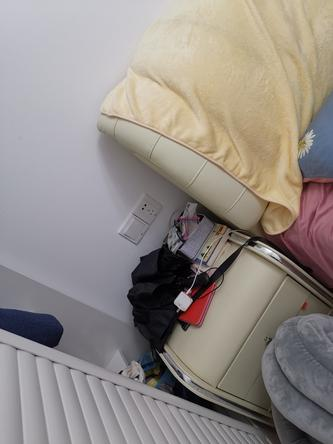switch: (122, 221, 149, 242)
